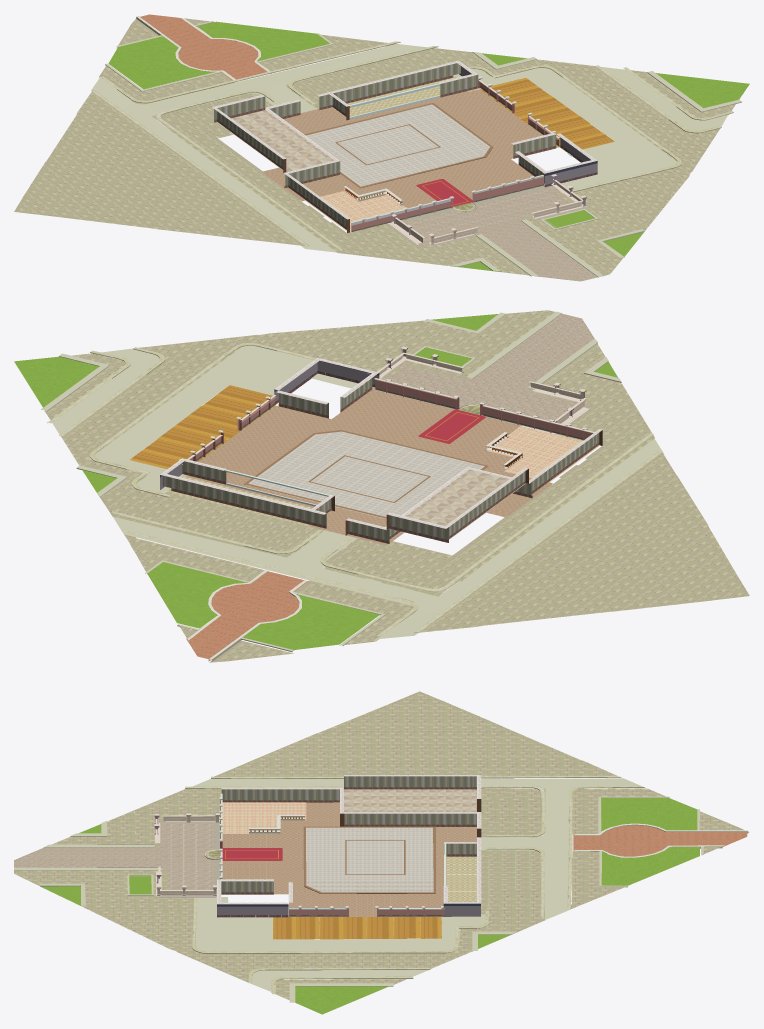
The picture shows the model from 3 angles, top to bottom: view 1: azimuth 30°, elevation 25°; view 2: azimuth 150°, elevation 25°; view 3: azimuth 270°, elevation 25°; orthographic projection. The views are drawn at different scales.
Parts seen in each view (by area): view 1: CJ_cj1; view 2: CJ_cj1; view 3: CJ_cj1.
Boxes of the visible parts, <box> form: CJ_cj1: <box>14,14,749,281</box>; CJ_cj1: <box>14,310,749,662</box>; CJ_cj1: <box>14,691,749,1014</box>.
Size of the model in its own units: 96.03 by 4.12 by 92.95.
